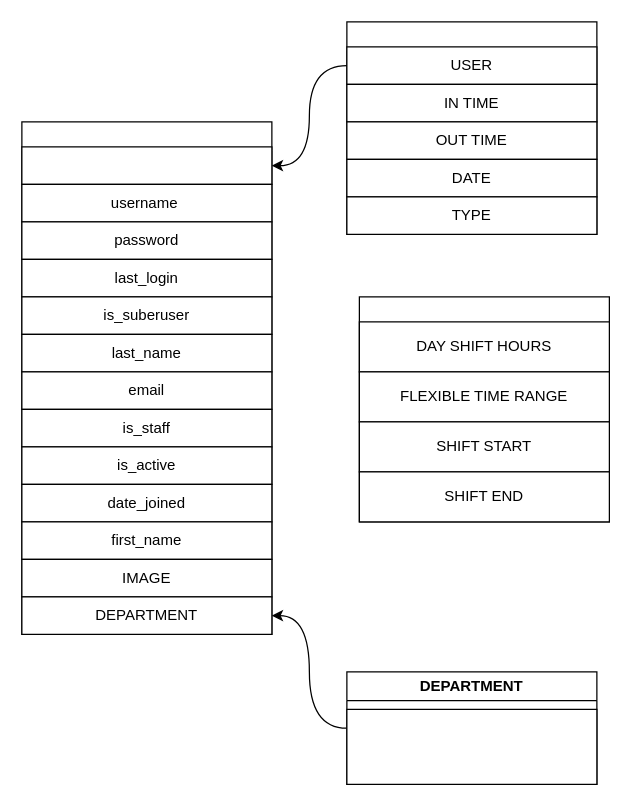
This 631x806 diagram has some shape labels left out. Each missing label, with the box of its shape:
ATTENDEES: (346, 21, 597, 234)
Id: (21, 146, 272, 184)
NAME: (346, 708, 597, 784)
SETTINGS: (358, 296, 609, 522)
USERS: (21, 121, 272, 634)
